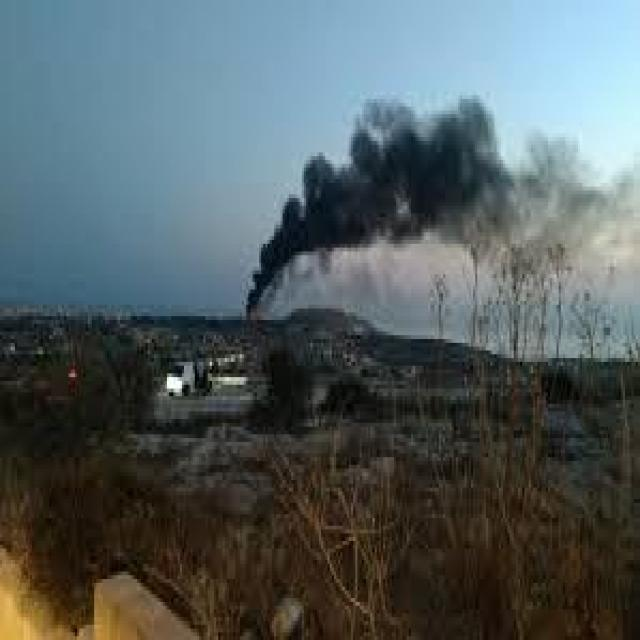Smoke: (243, 86, 630, 320)
